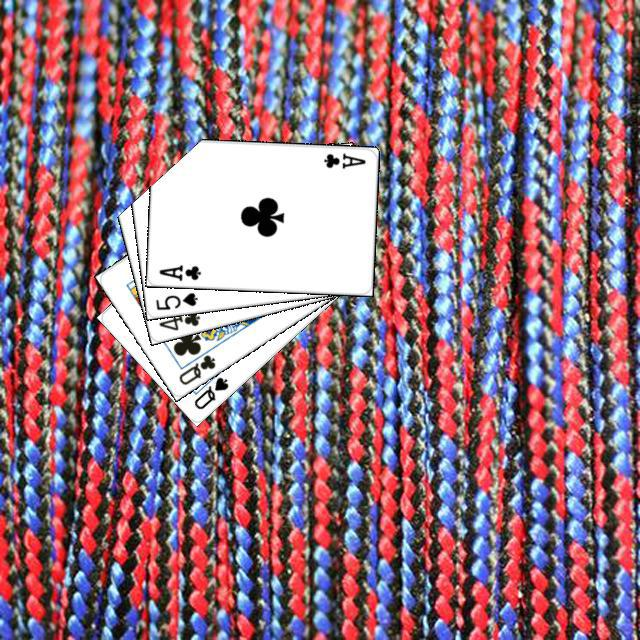4c: (154, 306, 202, 332)
5s: (151, 288, 199, 312)
Ac: (154, 260, 202, 282), (319, 148, 367, 170)
Qc: (174, 342, 217, 387)
Qs: (189, 372, 230, 411)
